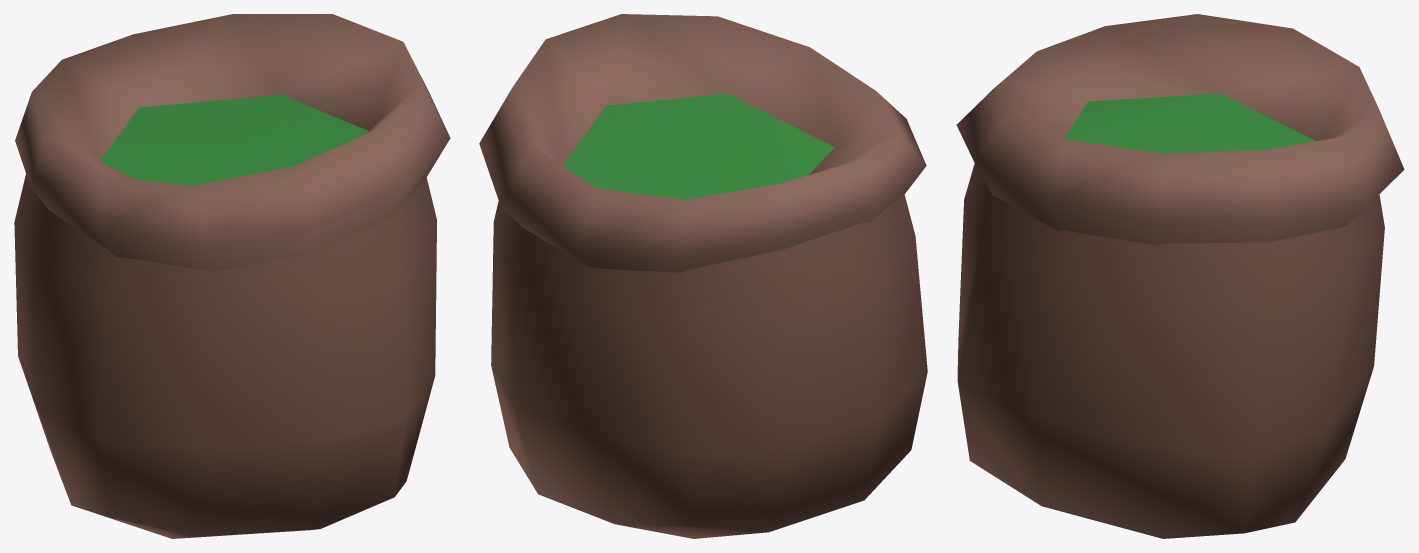
File: bag_002.glb
3 renders of one model, left to right at view 1: azimuth 30°, elevation 25°; view 2: azimuth 150°, elevation 25°; view 3: azimuth 270°, elevation 25°, orthographic.
Parts seen in each view (by area): view 1: bag_002; view 2: bag_002; view 3: bag_002.
Boxes of the visible parts, <box> form: bag_002: <box>14,14,450,538</box>; bag_002: <box>479,14,927,538</box>; bag_002: <box>956,14,1404,538</box>.
Size of the model in its own units: 0.5387 by 0.5712 by 0.5477.
Materials: 1 (1 with a texture image).
